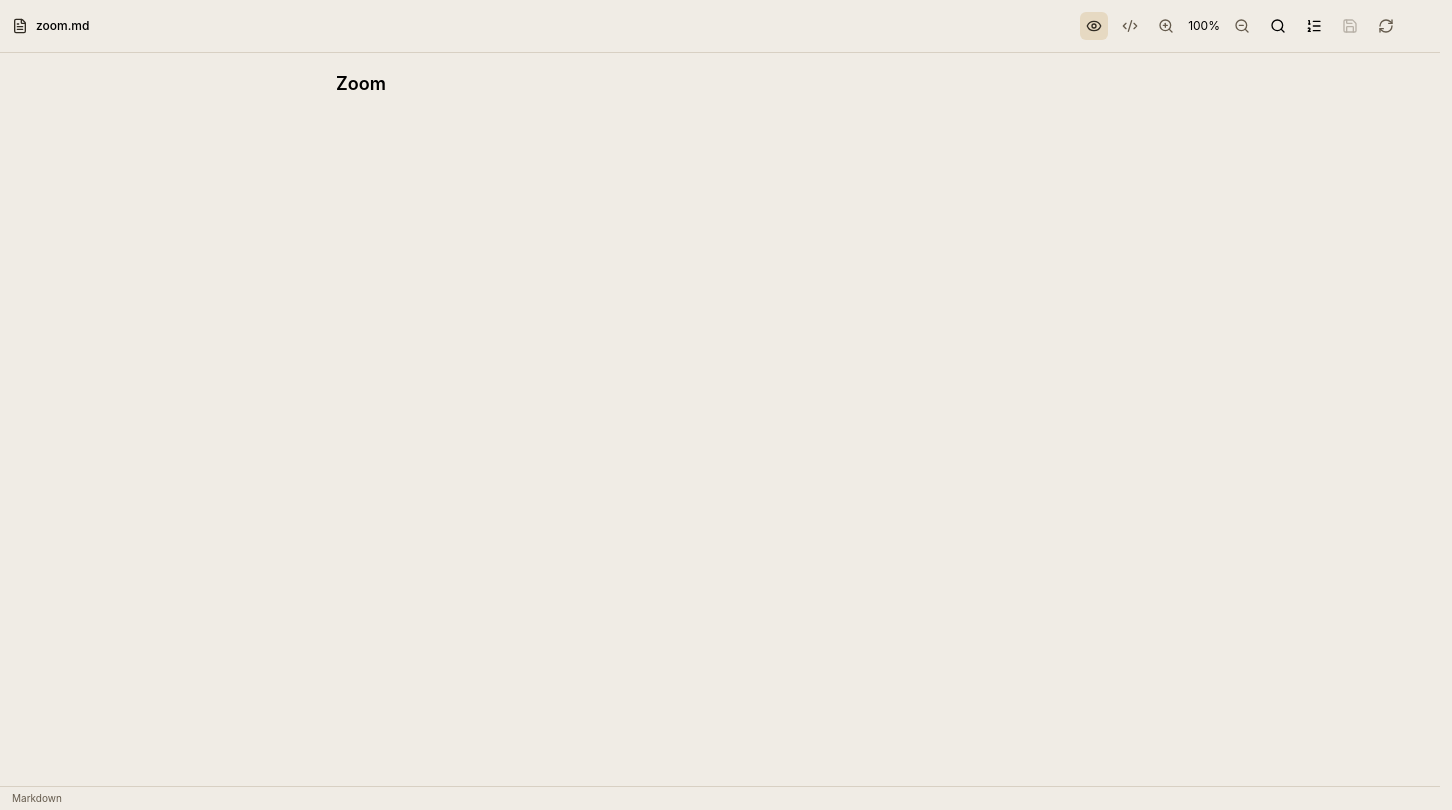
Scenario: Document tools › zooms Markdown preview and editor and resets to 100%
Click the button named "Zoom in" at coordinates (1166, 26), box [1152,12,1180,40]
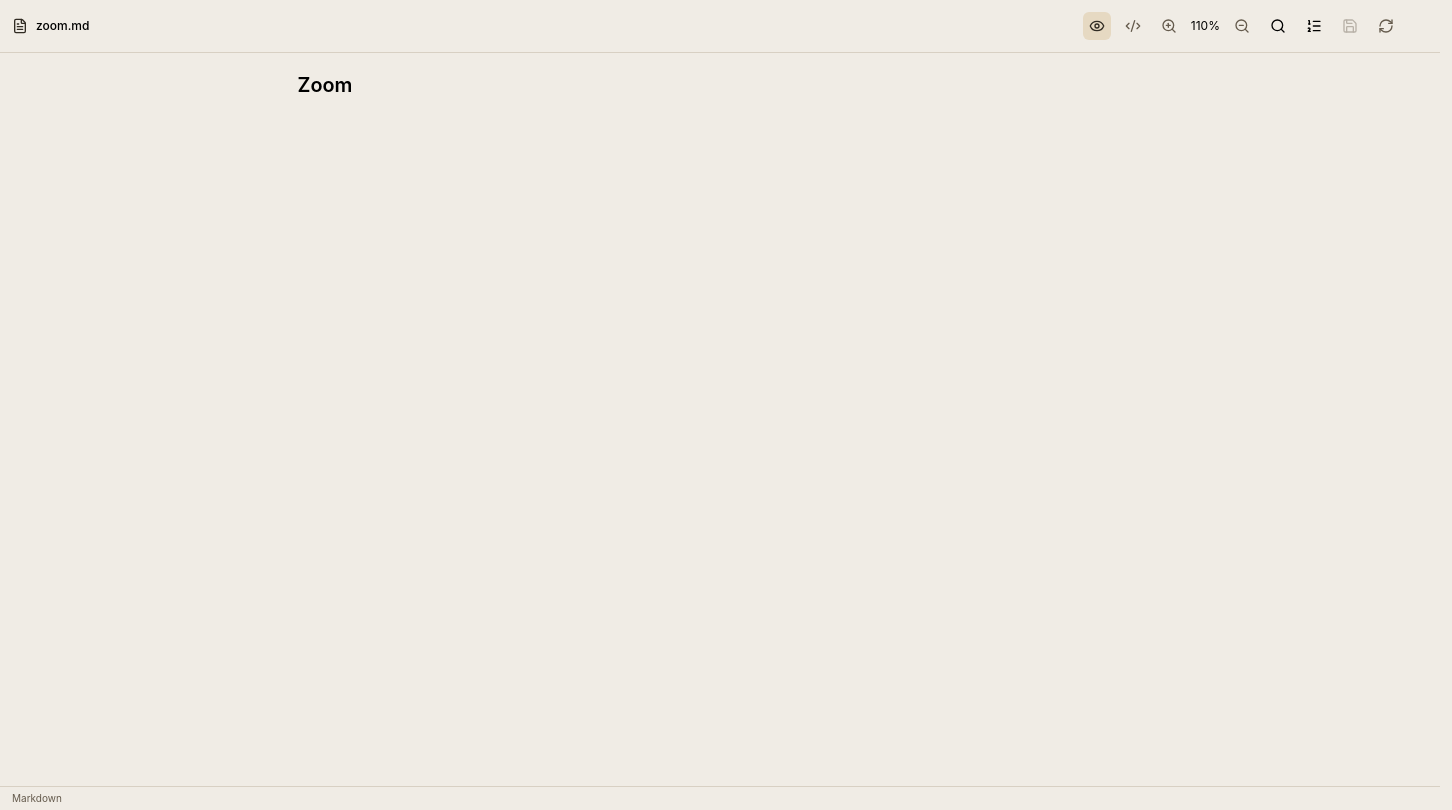
Result: the button named "Reset zoom" reads "110%" at [1187,17,1224,35]
Click the button named "Edit" at coordinates (1133, 26), box [1119,12,1147,40]
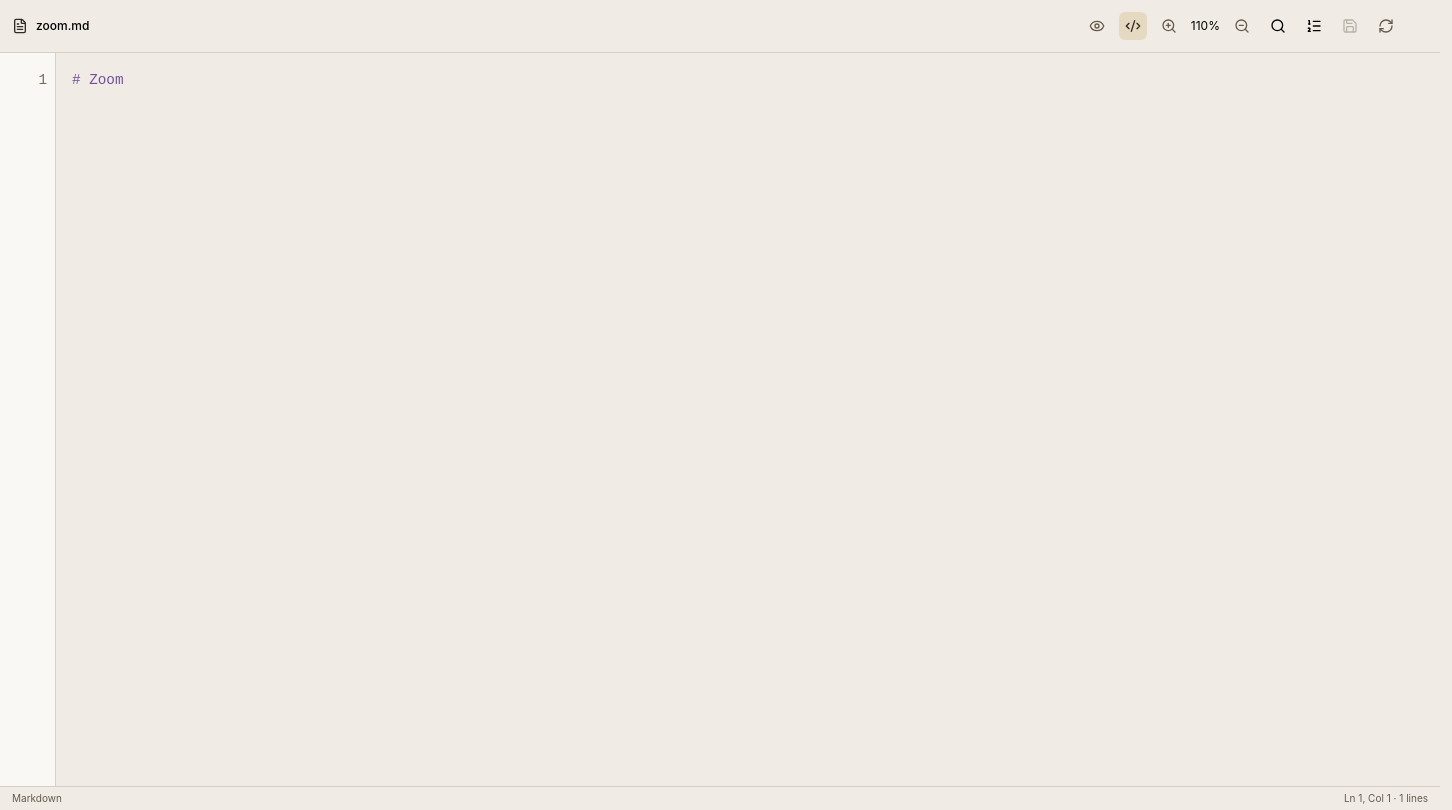
Click the button named "Reset zoom" at coordinates (1205, 26), box [1187,17,1224,35]
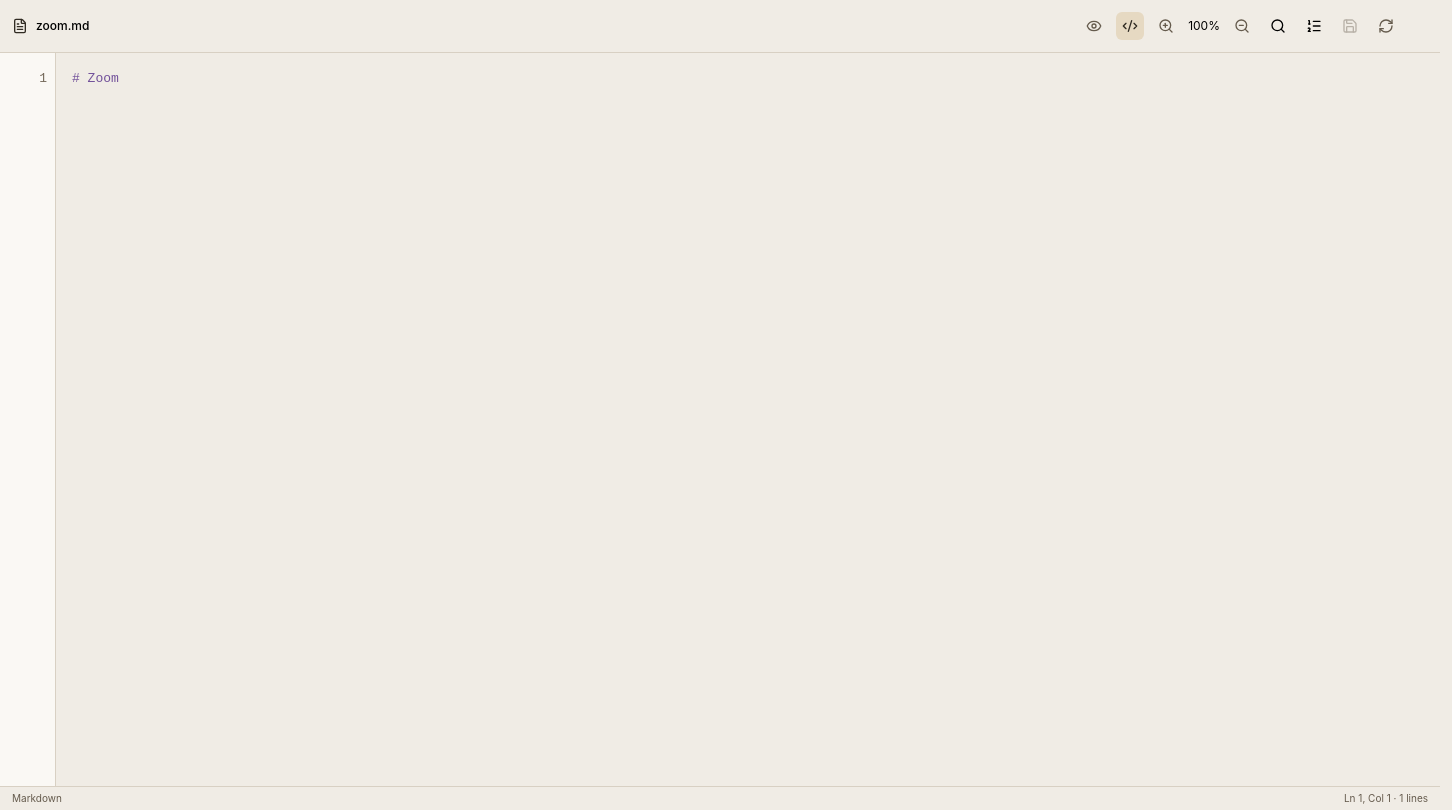
Result: the button named "Reset zoom" reads "100%" at [1184,17,1224,35]
